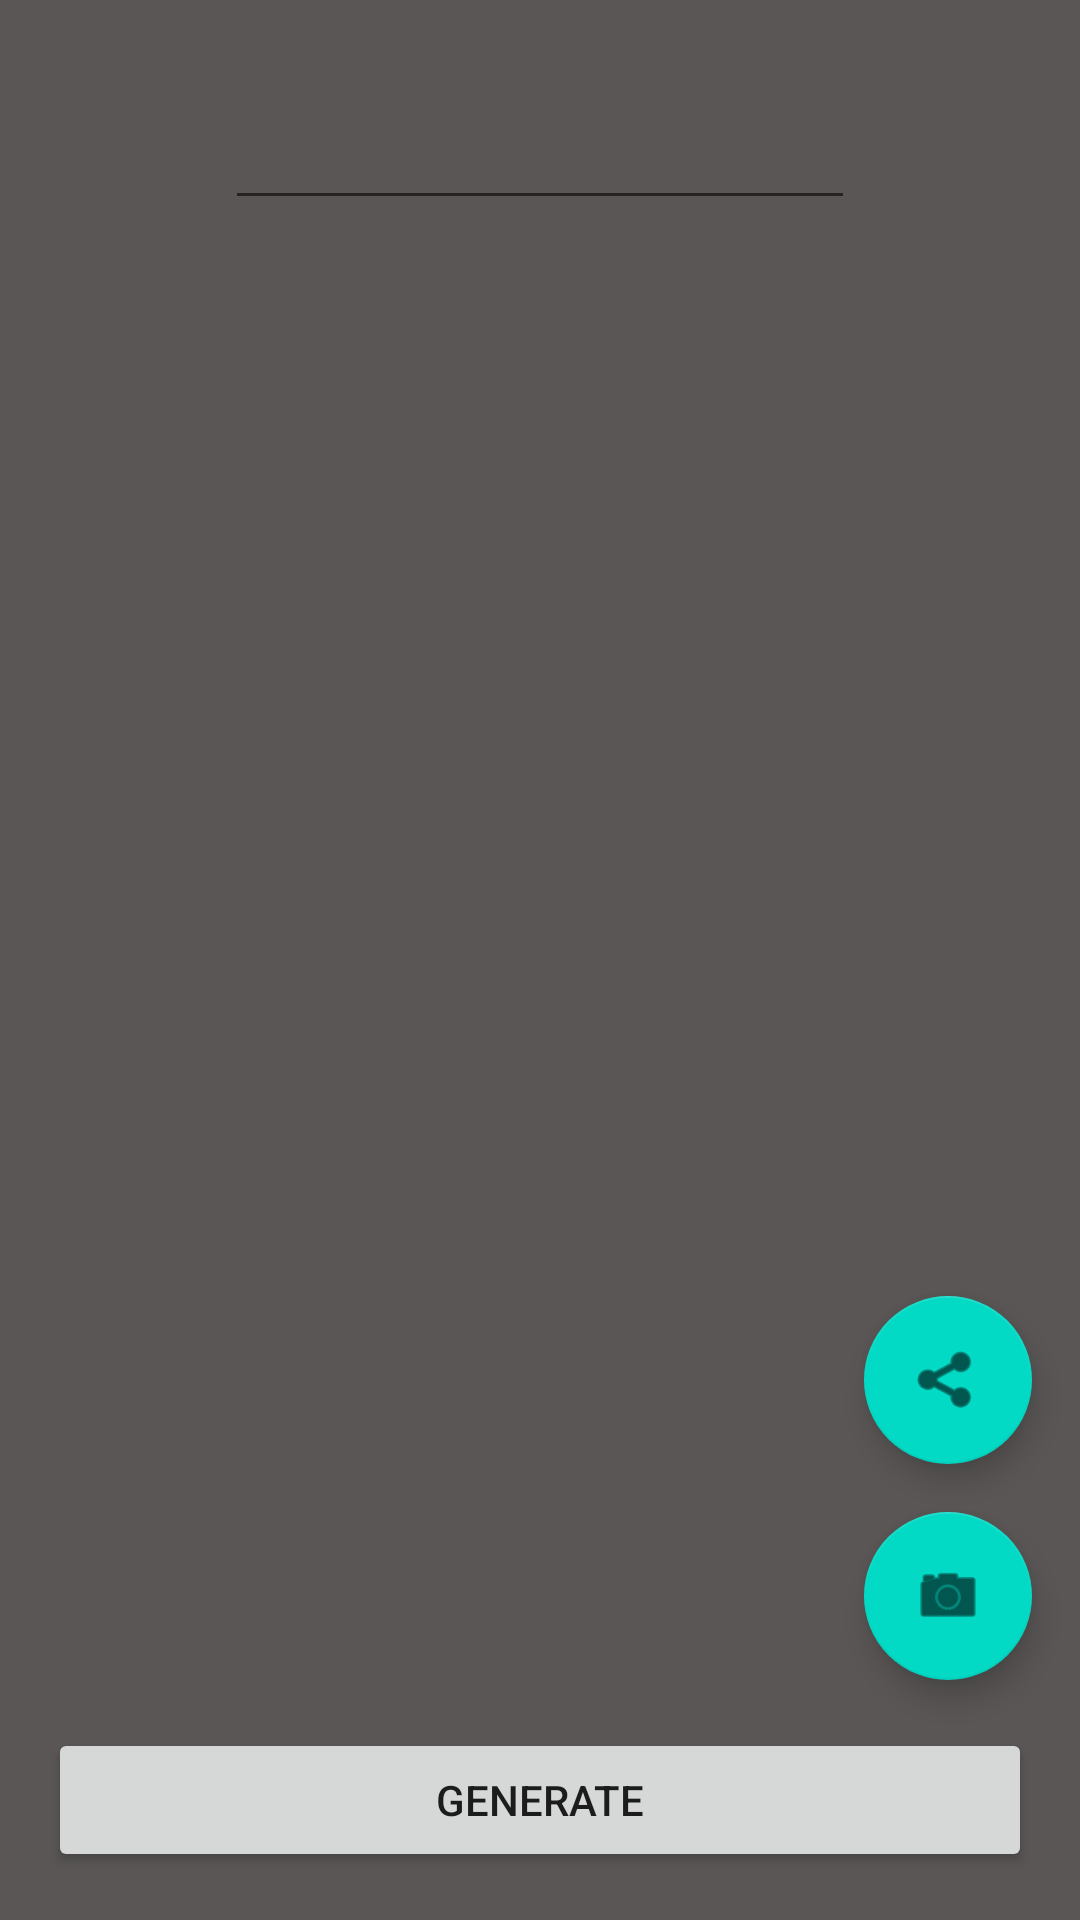

Screen size 1080 × 1920. Icon name, then its center in pixels as (x,y):
camera: (948,1596)
share: (948,1380)
